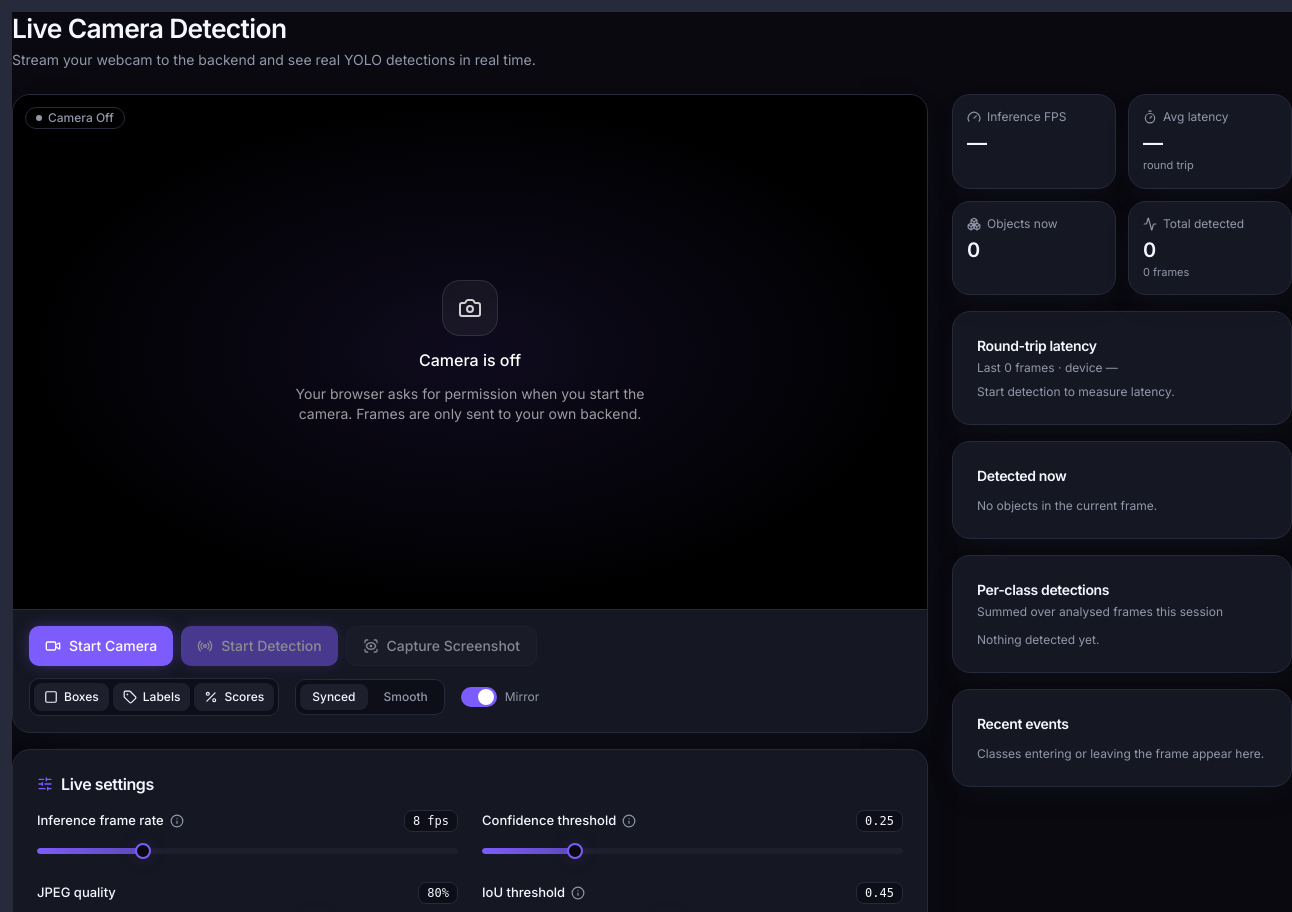
Scenario: Live camera › explains a missing camera
Click the button "Start Camera": click(101, 646) [29,626,173,666]
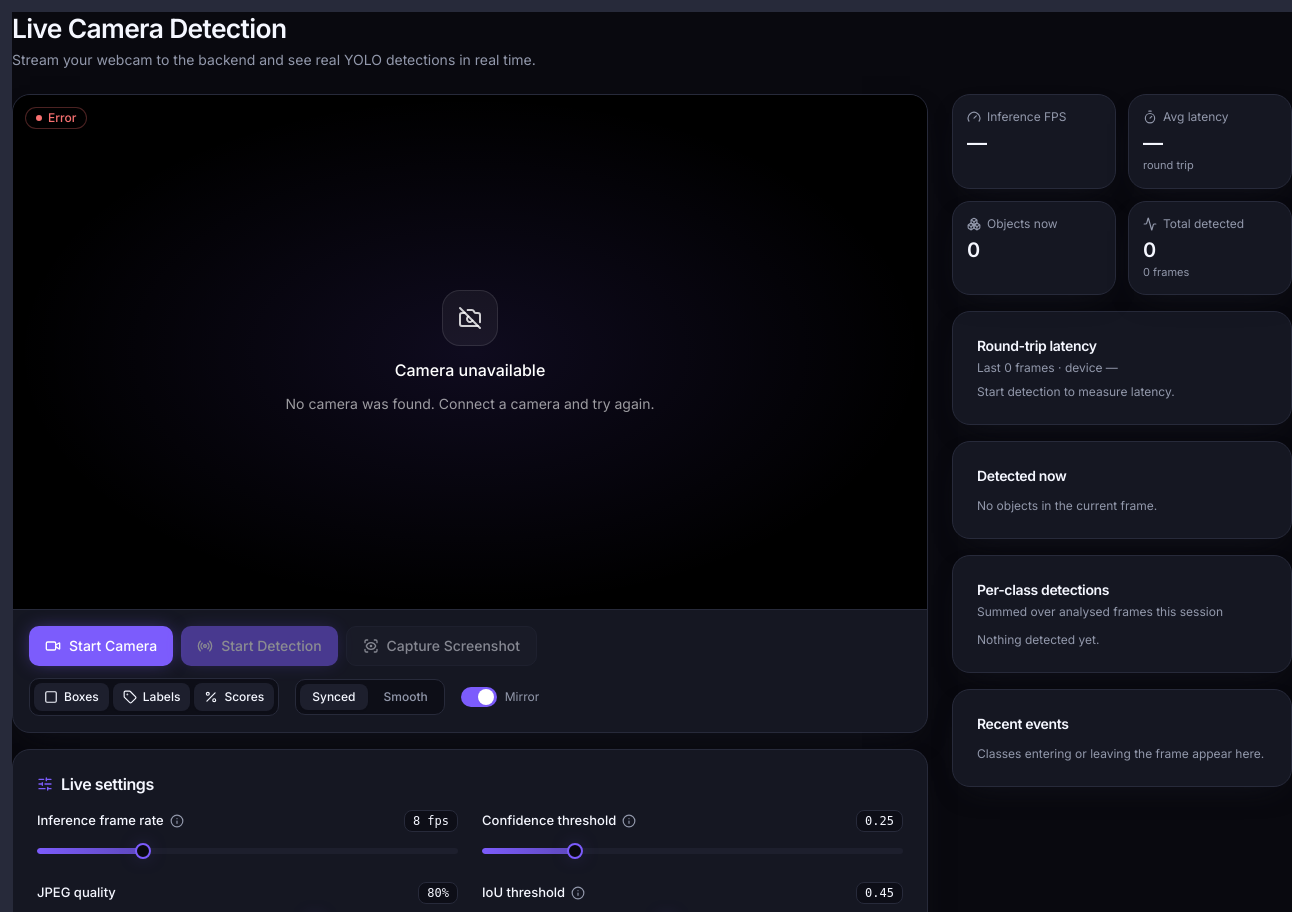
Result: the text "No camera was found. Connect a camera and try again." is shown at [286,394,654,414]
